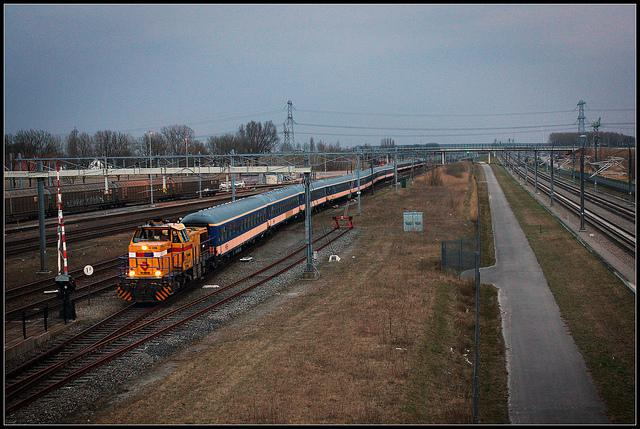Train: (113, 154, 426, 306), (0, 180, 222, 225)
